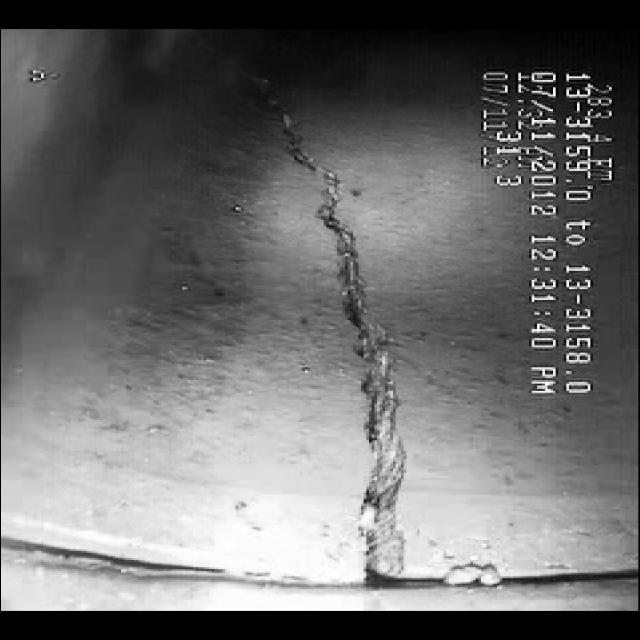Fracture: (302, 142, 444, 548)
